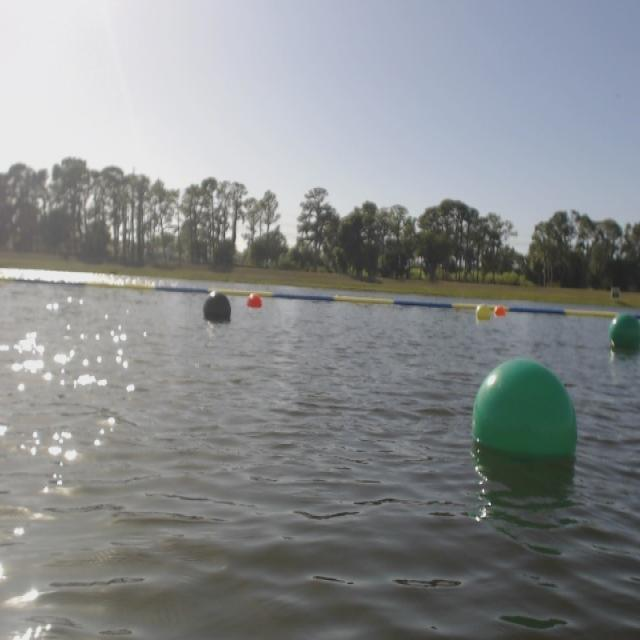Black_Buoy: (198, 290, 236, 330)
Green_Buoy: (469, 362, 578, 466), (607, 314, 640, 350)
Orange__Buoy: (246, 293, 268, 318), (492, 306, 506, 314)
